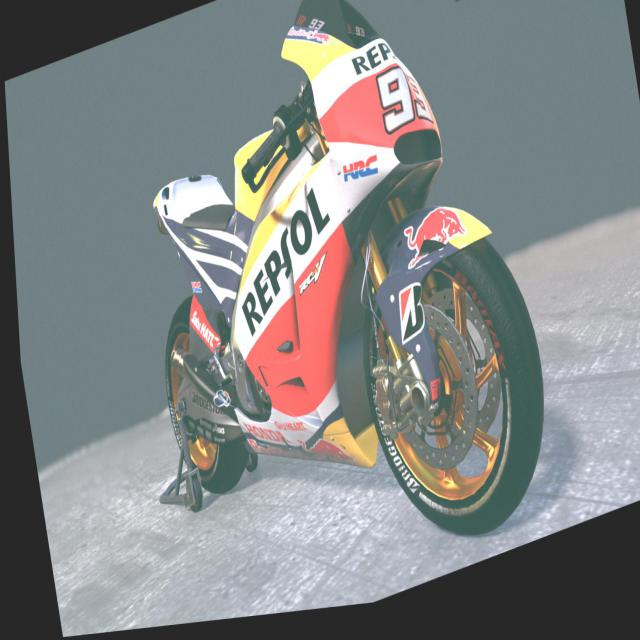HRC RCV 213: (90, 0, 558, 632)
